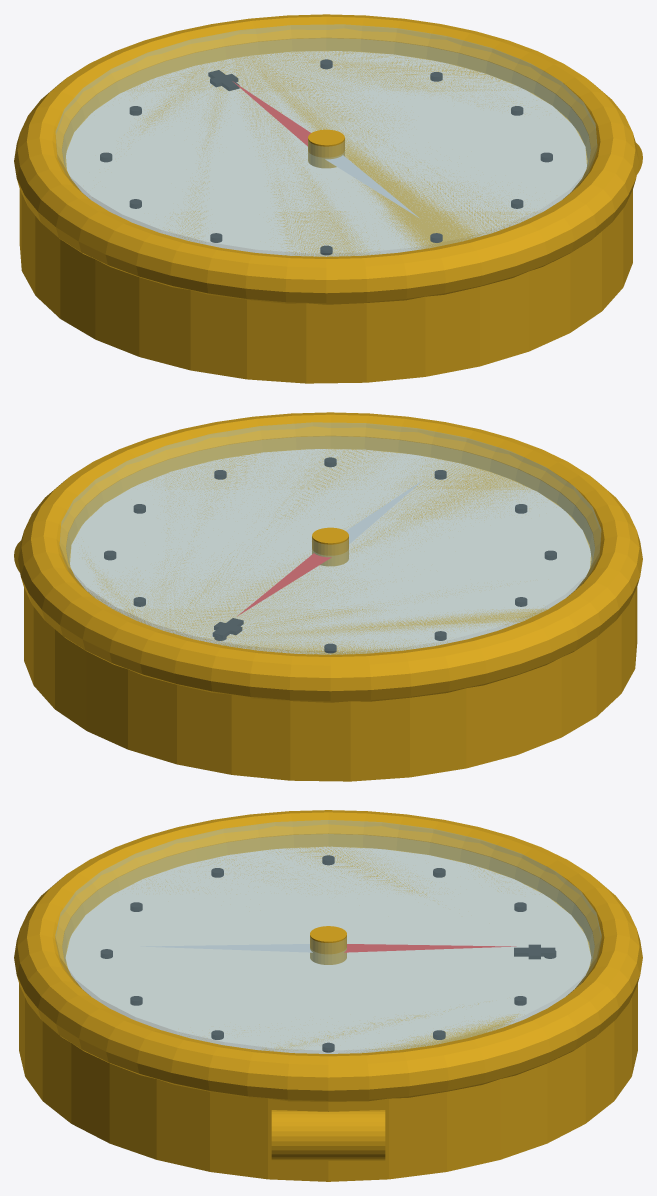
The model's file is Compass.fbx.
The picture shows the model from 3 angles, top to bottom: view 1: azimuth 30°, elevation 25°; view 2: azimuth 150°, elevation 25°; view 3: azimuth 270°, elevation 25°; orthographic projection.
Parts seen in each view (by area): view 1: Glass, Cylinder, Case, Torus.165, Cylinder.013, Needle.001, Needle; view 2: Glass, Cylinder, Torus.165, Case, Cylinder.013, Needle, Needle.001; view 3: Glass, Cylinder, Torus.165, Case, Cylinder.014, Cylinder.013, Needle, Needle.001.
Boxes of the visible parts, x1=… form: Glass: x1=56, y1=24, x2=596, y2=256; Cylinder: x1=66, y1=51, x2=586, y2=256; Case: x1=19, y1=50, x2=632, y2=383; Torus.165: x1=14, y1=14, x2=638, y2=304; Cylinder.013: x1=308, y1=129, x2=344, y2=168; Needle.001: x1=325, y1=155, x2=418, y2=217; Needle: x1=234, y1=82, x2=310, y2=146; Glass: x1=60, y1=422, x2=600, y2=654; Cylinder: x1=70, y1=449, x2=590, y2=654; Torus.165: x1=18, y1=412, x2=642, y2=702; Case: x1=24, y1=448, x2=637, y2=781; Cylinder.013: x1=312, y1=527, x2=348, y2=566; Needle: x1=238, y1=553, x2=331, y2=615; Needle.001: x1=346, y1=480, x2=422, y2=544; Glass: x1=55, y1=820, x2=601, y2=1053; Cylinder: x1=65, y1=846, x2=591, y2=1053; Torus.165: x1=14, y1=810, x2=642, y2=1101; Case: x1=19, y1=846, x2=637, y2=1181; Cylinder.014: x1=271, y1=1110, x2=385, y2=1160; Cylinder.013: x1=310, y1=926, x2=346, y2=964; Needle: x1=344, y1=944, x2=515, y2=952; Needle.001: x1=141, y1=944, x2=312, y2=952.
Size of the model in its own units: 63 by 12.55 by 61.
Materials: 6 (6 with a texture image).
